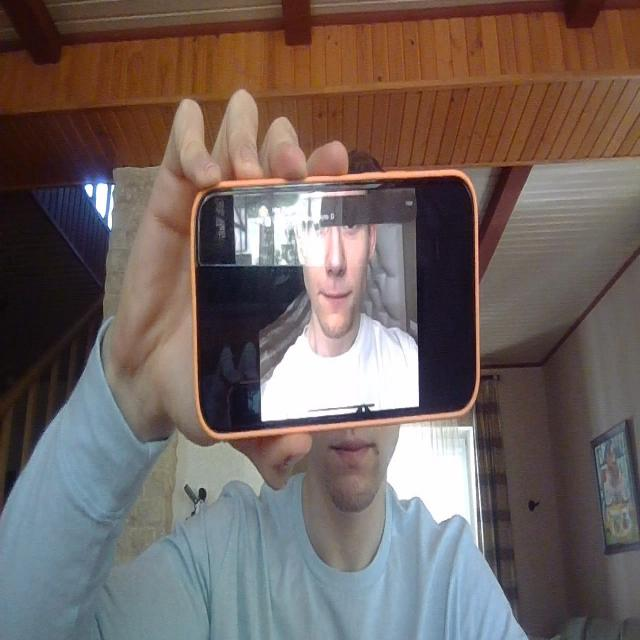device: (192, 172, 481, 426)
